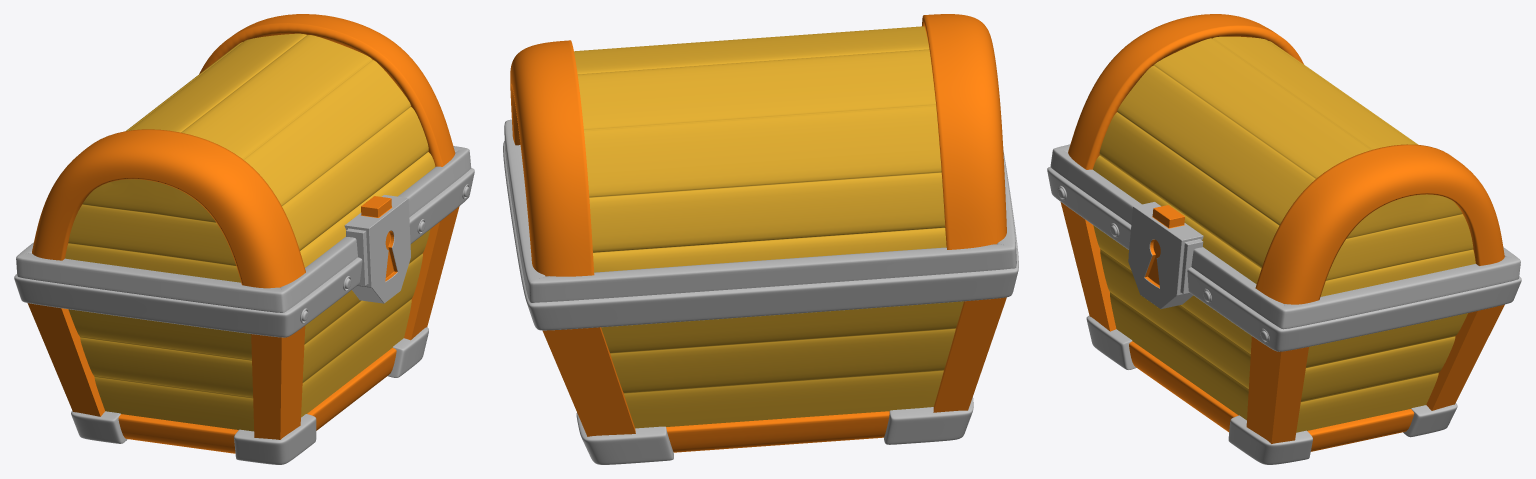
File: Treasure Chest.glb
3 renders of one model, left to right at view 1: azimuth 30°, elevation 25°; view 2: azimuth 150°, elevation 25°; view 3: azimuth 270°, elevation 25°, orthographic. The views are drawn at different scales.
Visible parts, largest first — view 1: Cube.003, Cube.005, Cube, Cube.001, Cube.002, Cube.004, Cube.007, Cube.006; view 2: Cube.003, Cube, Cube.005, Cube.001, Cube.004, Cube.002, Cube.006; view 3: Cube.003, Cube.005, Cube, Cube.001, Cube.002, Cube.004, Cube.007, Cube.006.
Boxes of the visible parts, left/top/right/bottom form: Cube.003: left=65, top=33, right=435, bottom=282; Cube.005: left=32, top=14, right=455, bottom=288; Cube: left=68, top=229, right=430, bottom=431; Cube.001: left=14, top=168, right=474, bottom=464; Cube.002: left=27, top=206, right=459, bottom=439; Cube.004: left=16, top=146, right=471, bottom=312; Cube.007: left=344, top=195, right=410, bottom=303; Cube.006: left=118, top=347, right=396, bottom=453; Cube.003: left=574, top=26, right=946, bottom=272; Cube: left=601, top=301, right=963, bottom=428; Cube.005: left=510, top=14, right=1006, bottom=276; Cube.001: left=503, top=141, right=1018, bottom=464; Cube.004: left=504, top=119, right=1016, bottom=302; Cube.002: left=542, top=297, right=1006, bottom=436; Cube.006: left=666, top=411, right=889, bottom=452; Cube.003: left=1093, top=36, right=1475, bottom=296; Cube.005: left=1068, top=14, right=1504, bottom=304; Cube: left=1093, top=225, right=1467, bottom=432; Cube.001: left=1047, top=166, right=1521, bottom=464; Cube.002: left=1060, top=202, right=1504, bottom=443; Cube.004: left=1050, top=144, right=1520, bottom=329; Cube.007: left=1128, top=202, right=1203, bottom=308; Cube.006: left=1129, top=341, right=1414, bottom=451.
Size of the model in its own units: 2.21 by 1.53 by 2.06.
